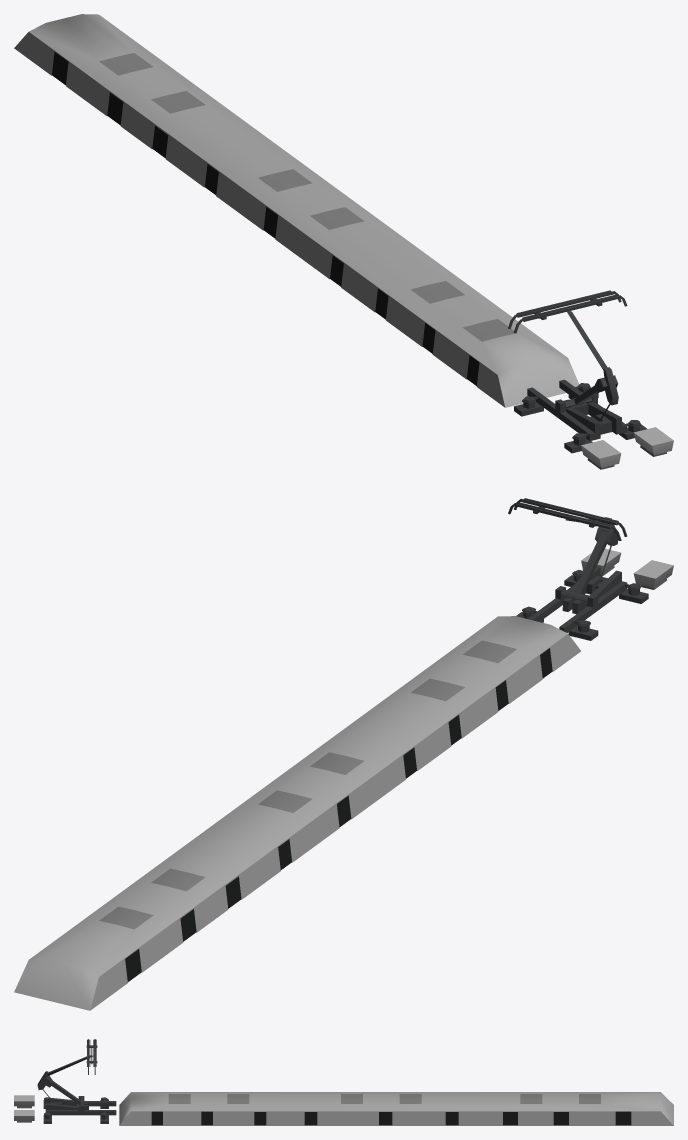
The model's file is T200_PANTA00.glb.
3 renders of one model, top to bottom at view 1: azimuth 30°, elevation 25°; view 2: azimuth 150°, elevation 25°; view 3: azimuth 270°, elevation 25°, orthographic. The views are drawn at different scales.
Parts seen in each view (by area): view 1: obj13; view 2: obj13; view 3: obj13.
Boxes of the visible parts, left/top/right/bottom form: obj13: left=14, top=14, right=673, bottom=469; obj13: left=14, top=498, right=673, bottom=1010; obj13: left=14, top=1039, right=673, bottom=1125.
Bounding box in the file's own units: 4.29 × 4.04 × 38.42.
11 materials, 11 textured.
